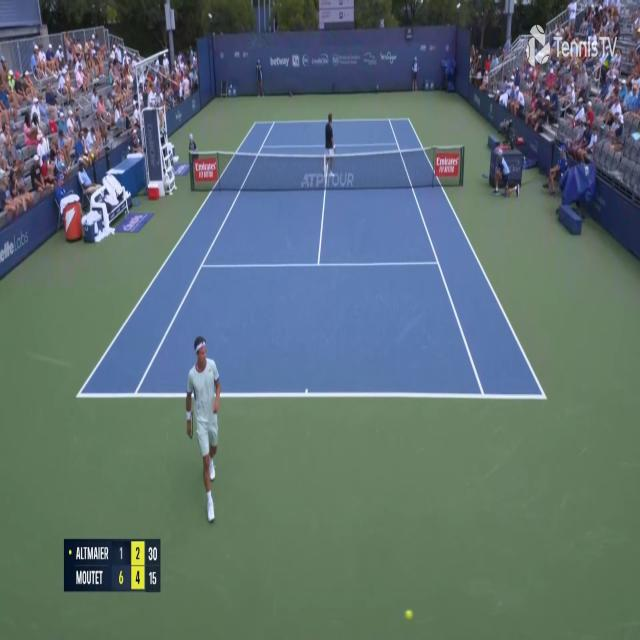tennis-player: (184, 332, 224, 524), (323, 107, 338, 181)
